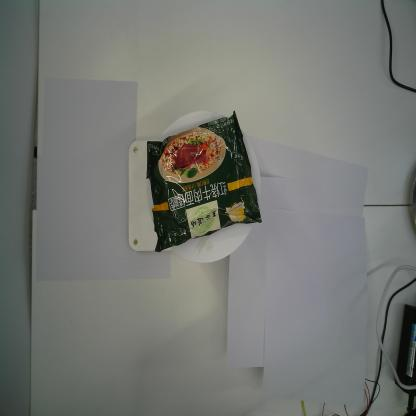Instant Noodles: (145, 108, 263, 254)
